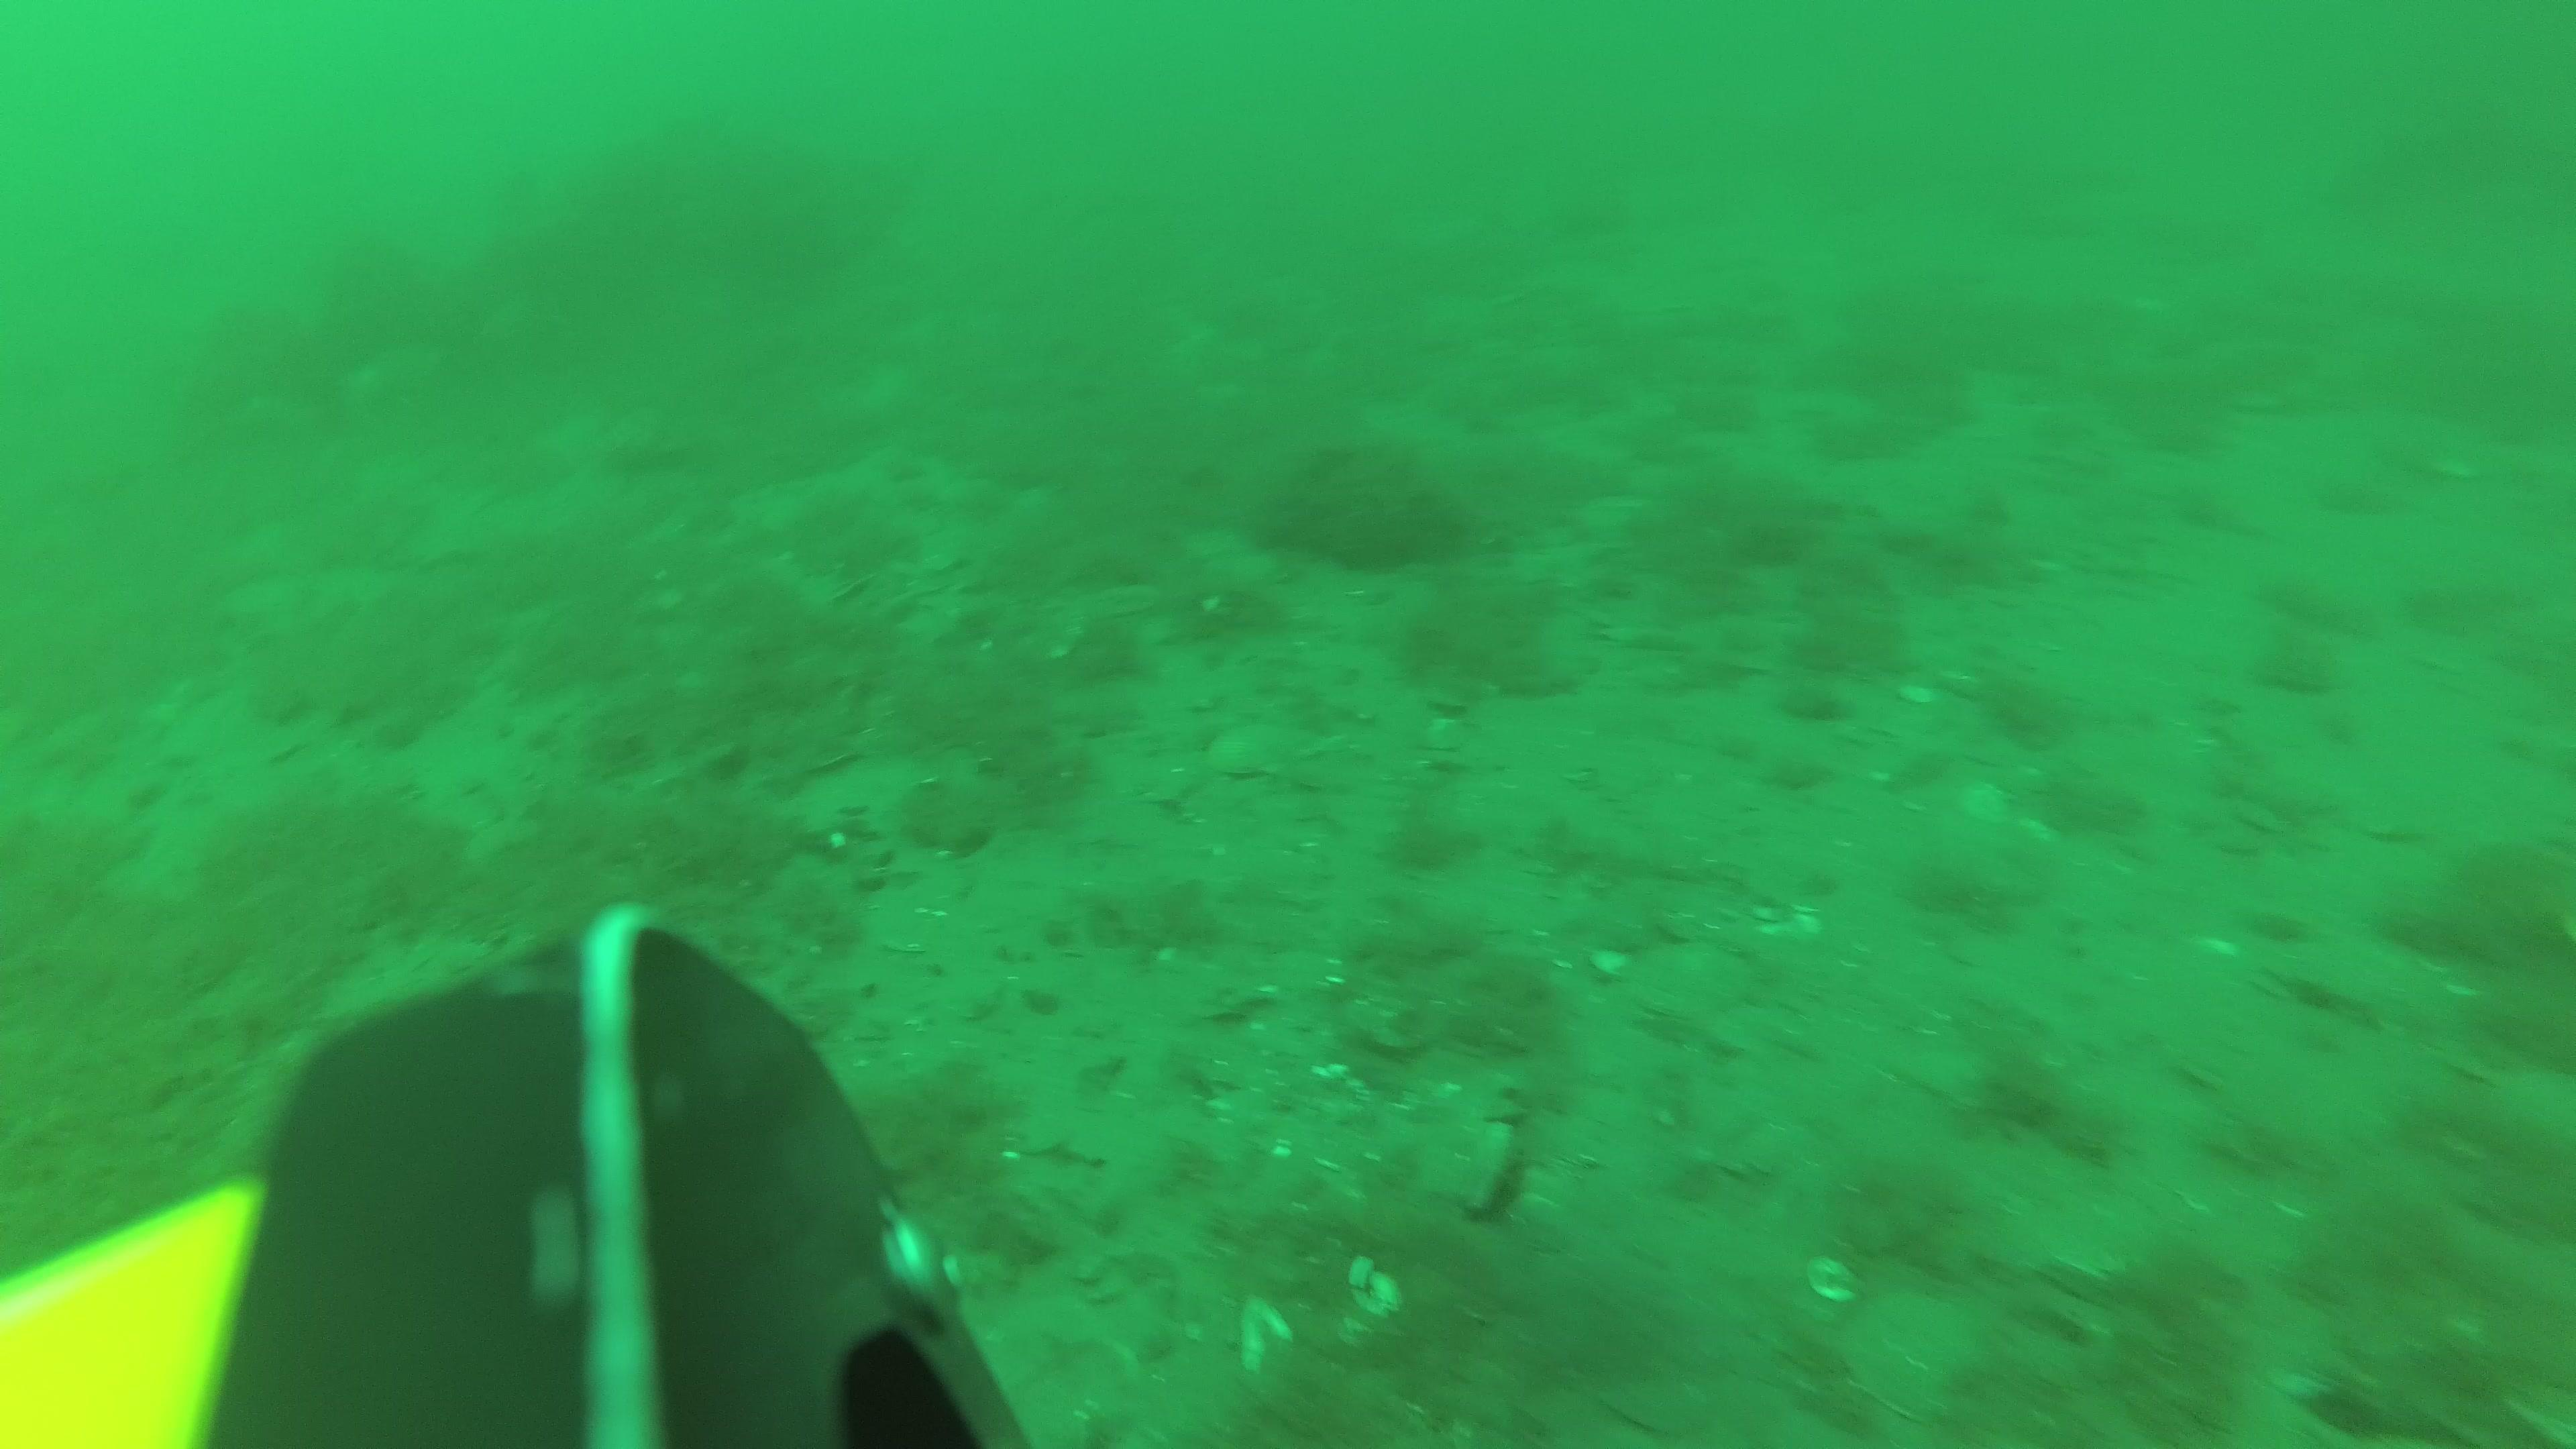scallop: (1617, 931, 1762, 1024), (1208, 713, 1330, 782)
